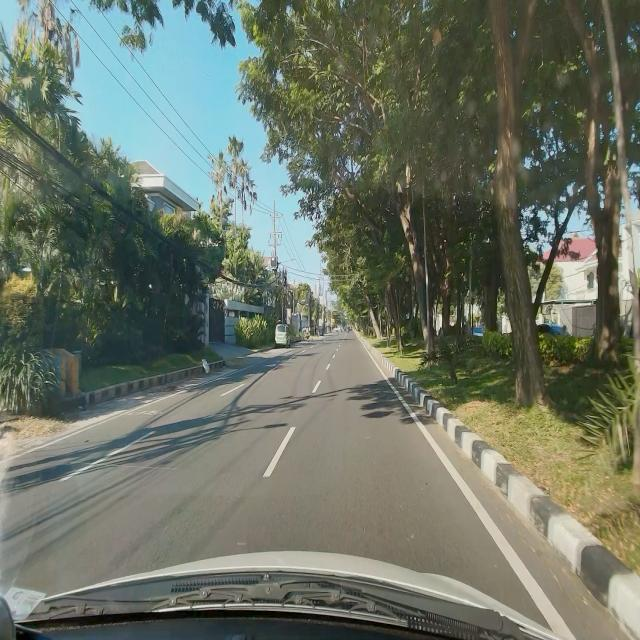car: (274, 324, 292, 349)
